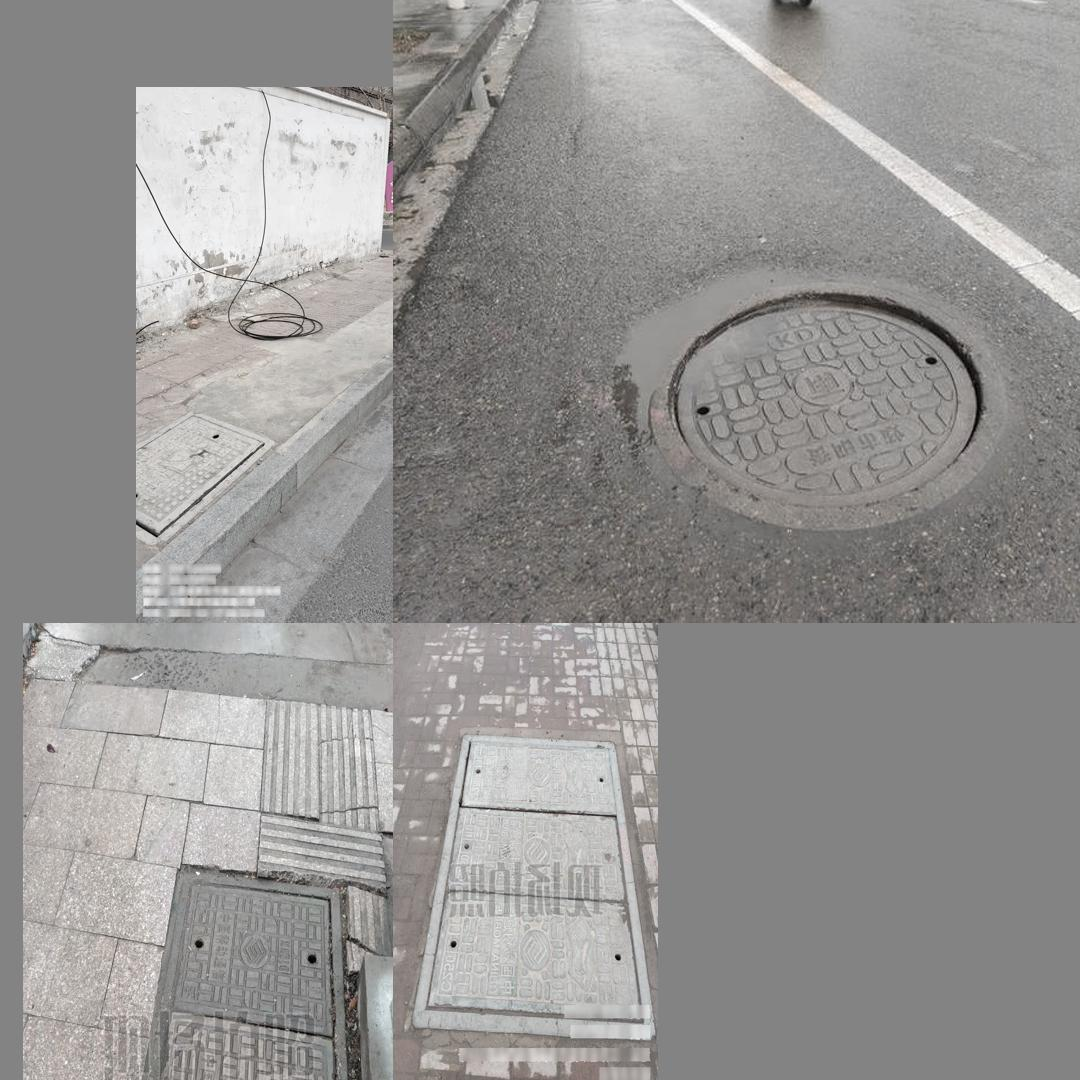good: (598, 257, 1016, 540), (410, 732, 655, 1039), (124, 864, 357, 1080), (136, 410, 275, 544)
